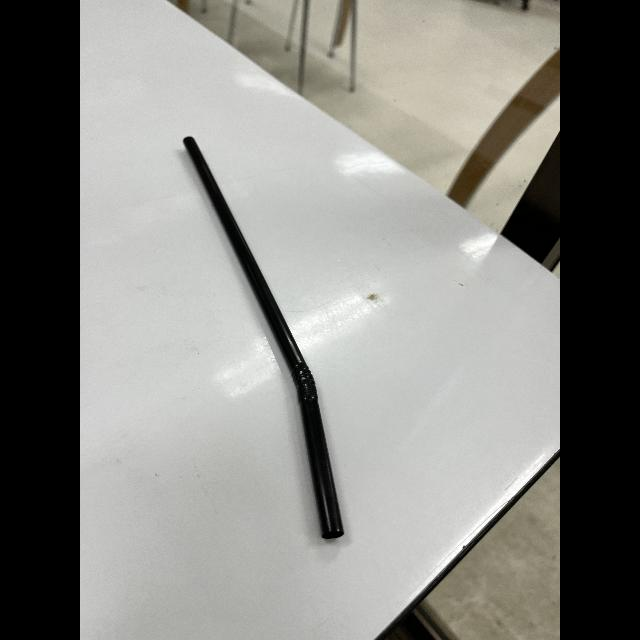straw: (180, 134, 350, 548)
